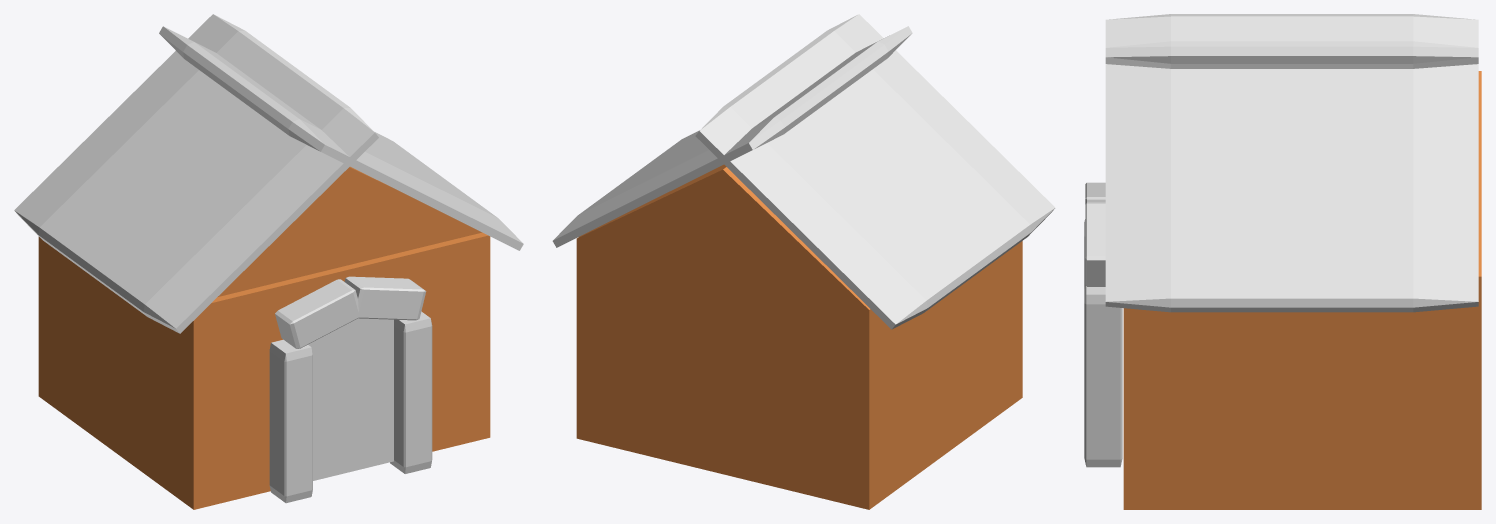
The model's file is Casetta4.fbx.
3 renders of one model, left to right at view 1: azimuth 30°, elevation 25°; view 2: azimuth 150°, elevation 25°; view 3: azimuth 270°, elevation 25°, orthographic. The views are drawn at different scales.
Parts seen in each view (by area): view 1: Plane, Plane.001, Cube, Plane.002, Cube.002; view 2: Plane, Plane.001; view 3: Plane.001, Plane, Cube, Cube.002.
Boxes of the visible parts, x1,y1,x2,y2 form: Plane: [38, 166, 490, 509]; Plane.001: [14, 14, 523, 333]; Cube: [269, 311, 432, 503]; Plane.002: [308, 318, 393, 480]; Cube.002: [275, 276, 426, 348]; Plane: [576, 164, 1022, 509]; Plane.001: [552, 14, 1055, 329]; Plane.001: [1105, 14, 1478, 312]; Plane: [1123, 71, 1481, 509]; Cube: [1084, 219, 1122, 467]; Cube.002: [1085, 182, 1105, 286].
Size of the model in its own units: 2488 by 2305 by 2086.
